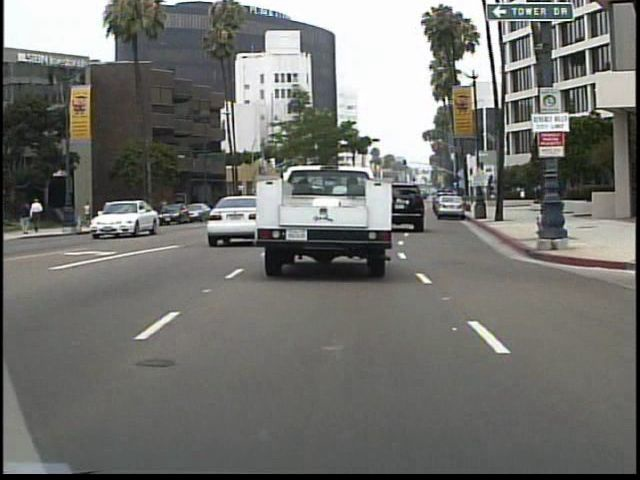person: (31, 195, 48, 233), (19, 198, 33, 236), (536, 183, 550, 216), (85, 199, 95, 227)
